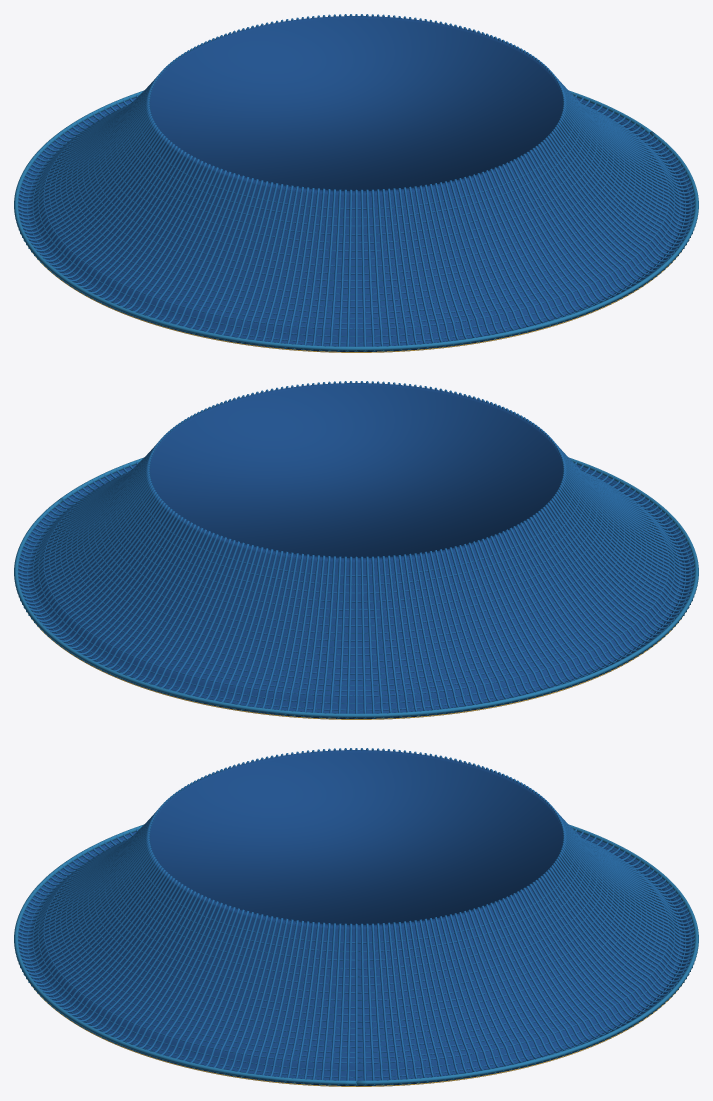
Rendered from SM_14_Roof_1.fbx.
3 views of the same model, one above another, from view 1: azimuth 30°, elevation 25°; view 2: azimuth 150°, elevation 25°; view 3: azimuth 270°, elevation 25° (orthographic).
Parts seen in each view (by area): view 1: Roof_1; view 2: Roof_1; view 3: Roof_1.
Boxes of the visible parts, x1=… form: Roof_1: x1=14, y1=14, x2=698, y2=352; Roof_1: x1=14, y1=381, x2=698, y2=719; Roof_1: x1=14, y1=748, x2=698, y2=1086.
Bounding box in the file's own units: 3241 × 3241 × 561.
